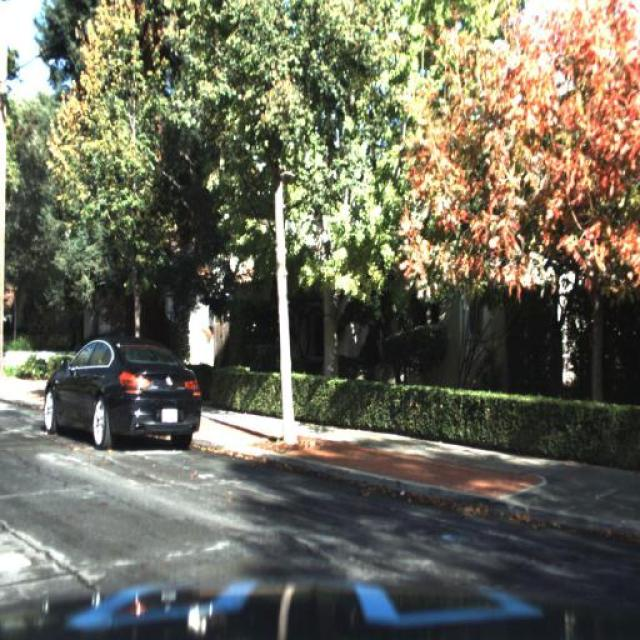car: (38, 328, 201, 462), (41, 333, 203, 456)
